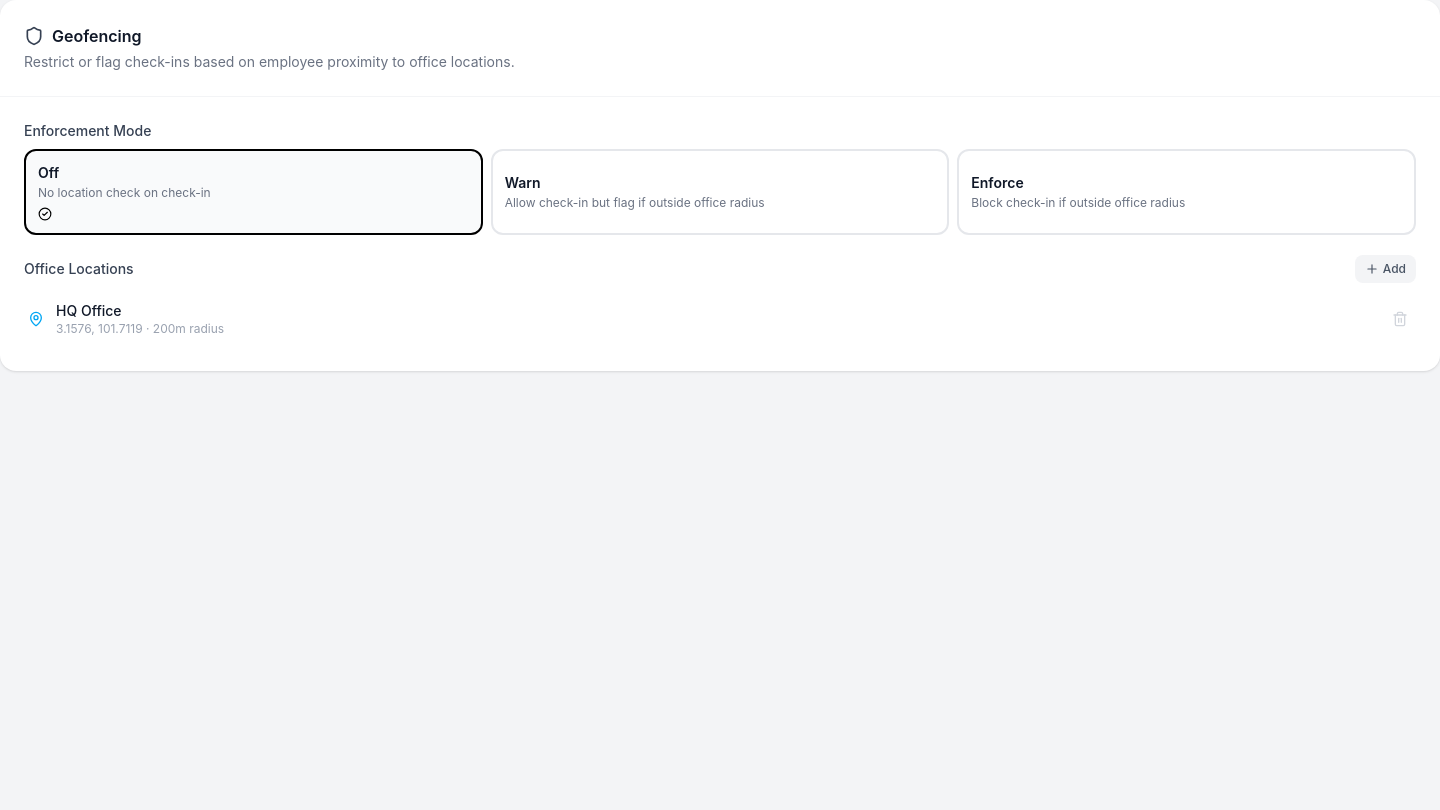
GeofenceCard › fills coordinates from the browser geolocation API
Expected: the text "HQ Office" is shown, [56,302,122,319]
Click the button "Add": (1385, 269) [1355,255,1416,283]
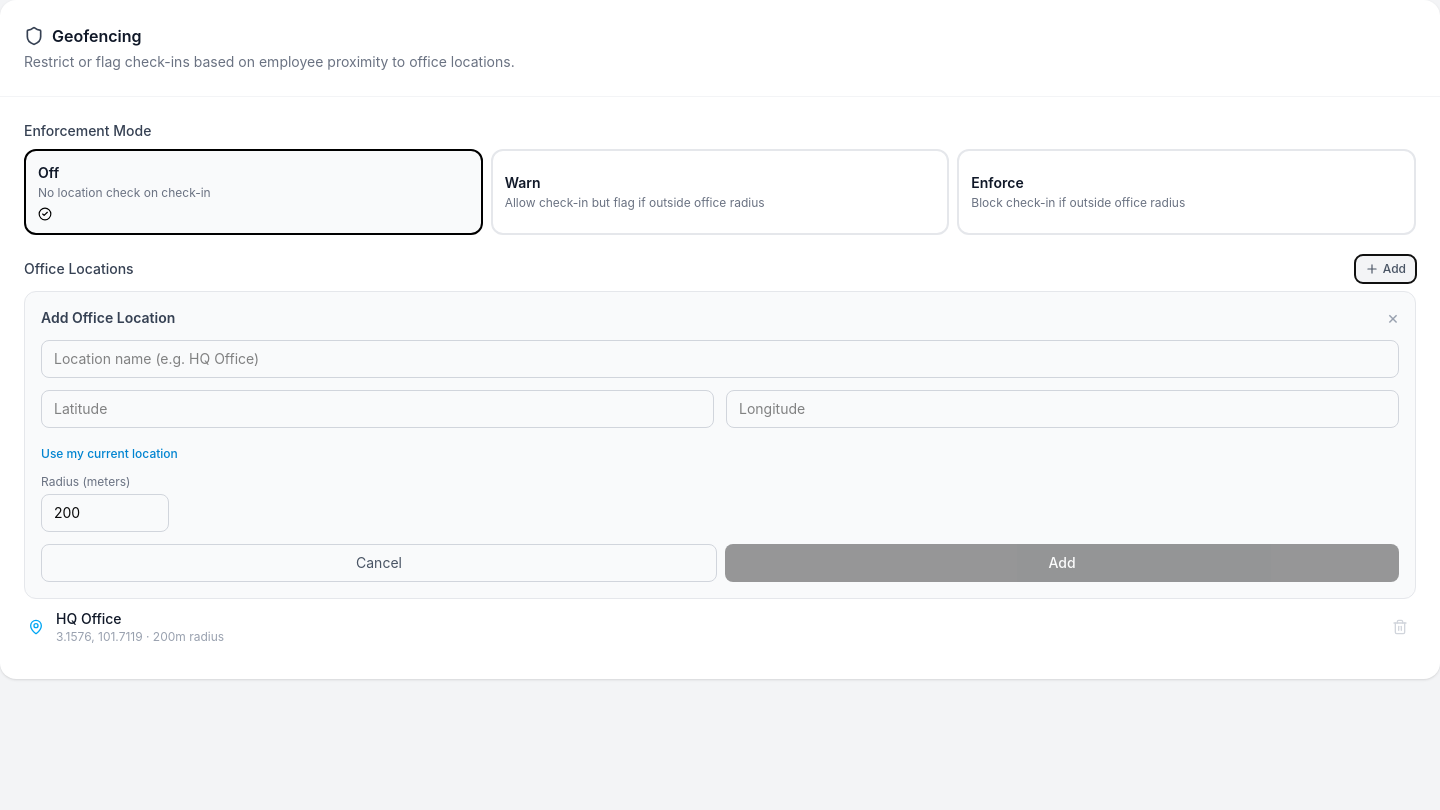
Click the button "Use my current location": (109, 454) [41,446,178,462]
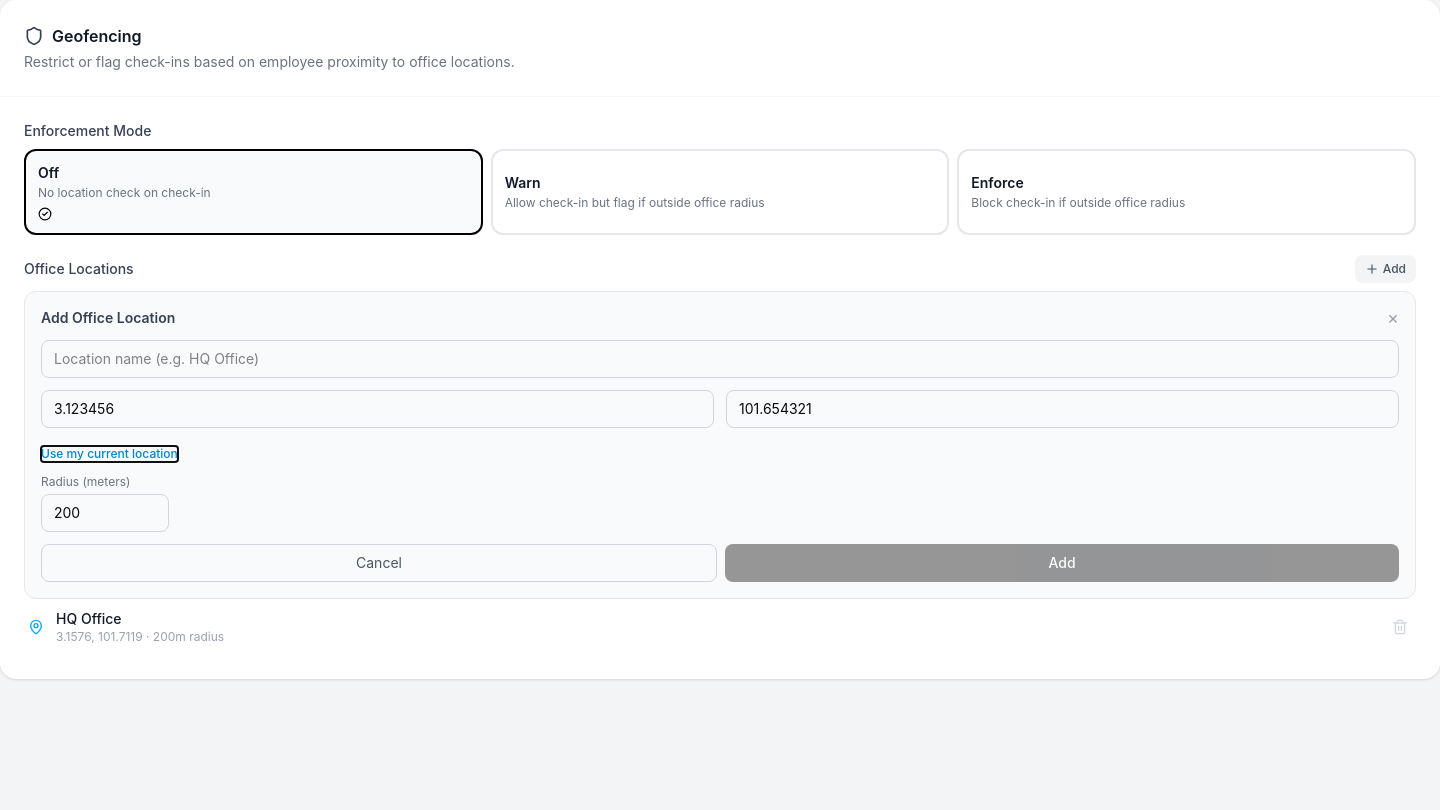
Expected: the 1st field with placeholder "Latitude" holds "3.123456", [41,390,714,428]
Expected: the 2nd field with placeholder "Longitude" holds "101.654321", [726,390,1399,428]
